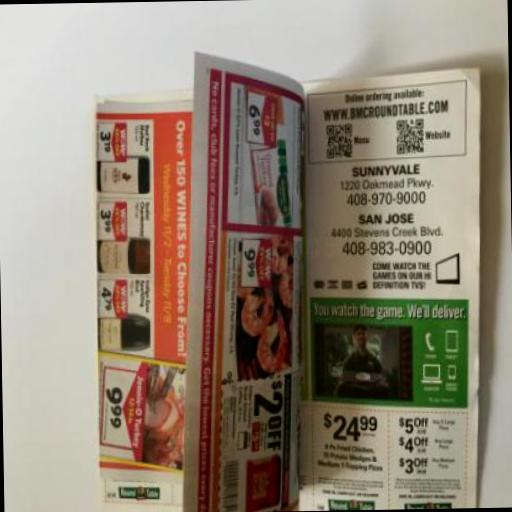paper: (286, 66, 488, 509), (174, 47, 310, 512), (91, 94, 198, 512)
